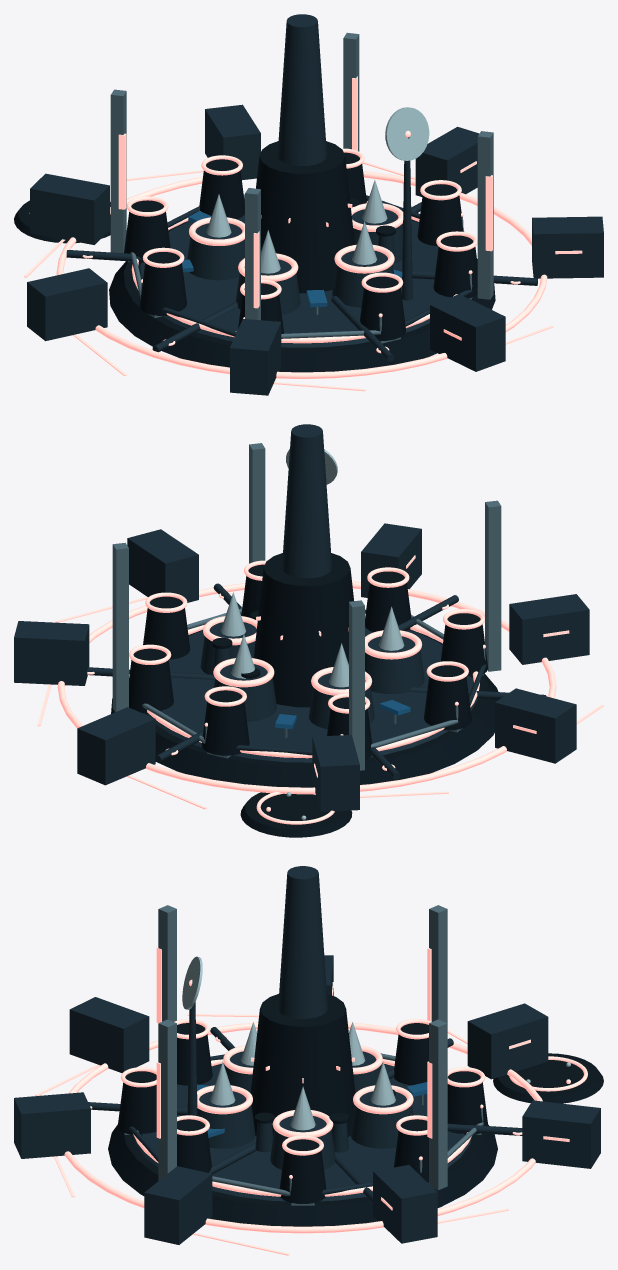
File: missileSilo-stage4.glb
The picture shows the model from 3 angles, top to bottom: view 1: azimuth 30°, elevation 25°; view 2: azimuth 150°, elevation 25°; view 3: azimuth 270°, elevation 25°; orthographic projection.
Parts seen in each view (by area): view 1: command-bunker, armored-foundation, upper-deck, strategic-command-spire, industrial-annex-1, industrial-annex-2, industrial-annex-6, district-grid-3, industrial-annex-5, industrial-annex-0, industrial-annex-4, industrial-annex-3 (+33 smaller); view 2: command-bunker, upper-deck, armored-foundation, strategic-command-spire, industrial-annex-1, industrial-annex-0, industrial-annex-3, industrial-annex-4, district-grid-3, industrial-annex-5, industrial-annex-2, landing-pad (+23 smaller); view 3: command-bunker, armored-foundation, strategic-command-spire, upper-deck, industrial-annex-0, industrial-annex-2, industrial-annex-3, industrial-annex-6, district-grid-3, industrial-annex-5, industrial-annex-4, landing-pad (+24 smaller).
Part boxes in pixels (x1,y1,x2,y2): command-bunker: [256, 141, 354, 293]; armored-foundation: [109, 219, 495, 372]; upper-deck: [134, 214, 449, 347]; strategic-command-spire: [277, 14, 326, 165]; industrial-annex-1: [27, 268, 107, 341]; industrial-annex-2: [30, 173, 109, 244]; industrial-annex-6: [430, 294, 505, 371]; district-grid-3: [56, 171, 547, 378]; industrial-annex-5: [532, 216, 603, 278]; industrial-annex-0: [230, 319, 281, 395]; industrial-annex-4: [415, 126, 479, 196]; industrial-annex-3: [205, 104, 260, 179]; command-bunker: [253, 553, 353, 707]; upper-deck: [146, 626, 477, 762]; armored-foundation: [111, 630, 498, 787]; strategic-command-spire: [282, 424, 331, 578]; industrial-annex-1: [495, 688, 576, 763]; industrial-annex-0: [509, 594, 589, 664]; industrial-annex-3: [77, 707, 155, 785]; industrial-annex-4: [14, 621, 89, 685]; district-grid-3: [57, 581, 556, 794]; industrial-annex-5: [127, 529, 198, 602]; industrial-annex-2: [312, 735, 359, 811]; landing-pad: [240, 786, 352, 837]; command-bunker: [250, 994, 355, 1136]; armored-foundation: [108, 1063, 497, 1226]; strategic-command-spire: [278, 866, 327, 1018]; upper-deck: [134, 1064, 472, 1201]; industrial-annex-0: [69, 997, 149, 1072]; industrial-annex-2: [467, 1003, 548, 1079]; industrial-annex-3: [522, 1100, 600, 1168]; industrial-annex-6: [14, 1092, 90, 1158]; district-grid-3: [64, 1022, 542, 1233]; industrial-annex-5: [144, 1166, 212, 1244]; industrial-annex-4: [373, 1165, 437, 1243]; landing-pad: [493, 1053, 603, 1103].
Size of the model in its own units: 17.93 by 9.1 by 17.62.
